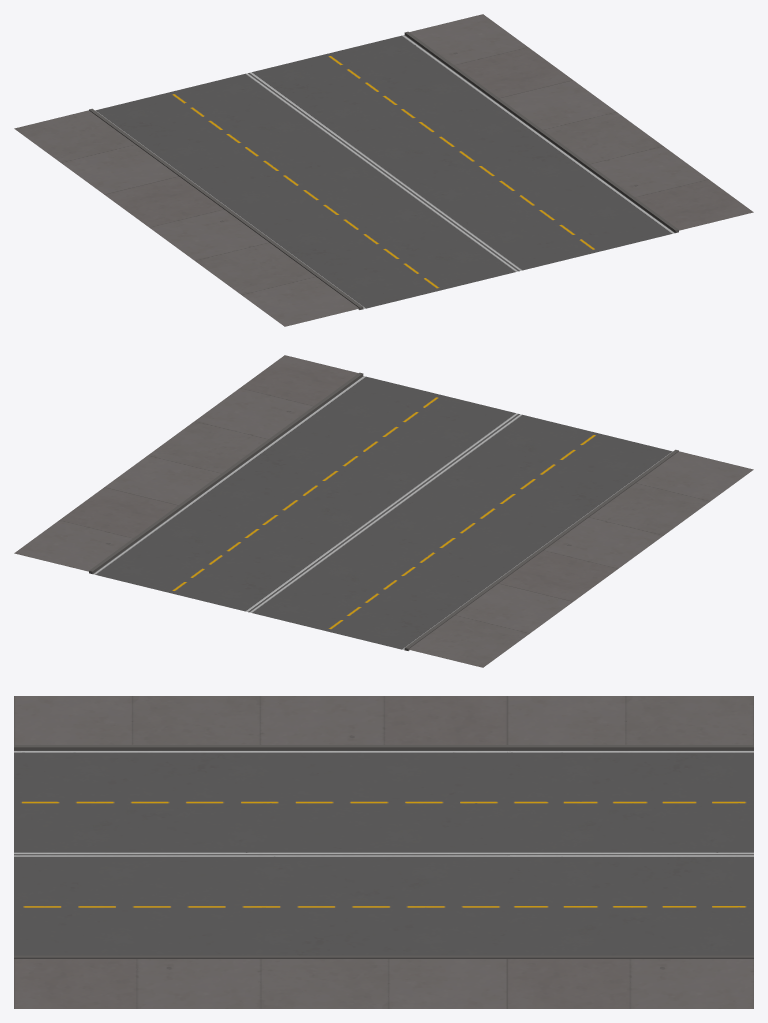
The model's file is SM_Floor_Road_14_L.fbx.
3 views of the same model, one above another, from view 1: azimuth 30°, elevation 25°; view 2: azimuth 150°, elevation 25°; view 3: azimuth 270°, elevation 25° (orthographic). The views are drawn at different scales.
Visible parts, largest first — view 1: SM_Floor_Road_14_L; view 2: SM_Floor_Road_14_L; view 3: SM_Floor_Road_14_L.
Part boxes in pixels (<box>): SM_Floor_Road_14_L: <box>14,14,753,326</box>; SM_Floor_Road_14_L: <box>14,355,753,667</box>; SM_Floor_Road_14_L: <box>14,696,753,1008</box>.
Bounding box in the file's own units: 15 × 0.075 × 15.
